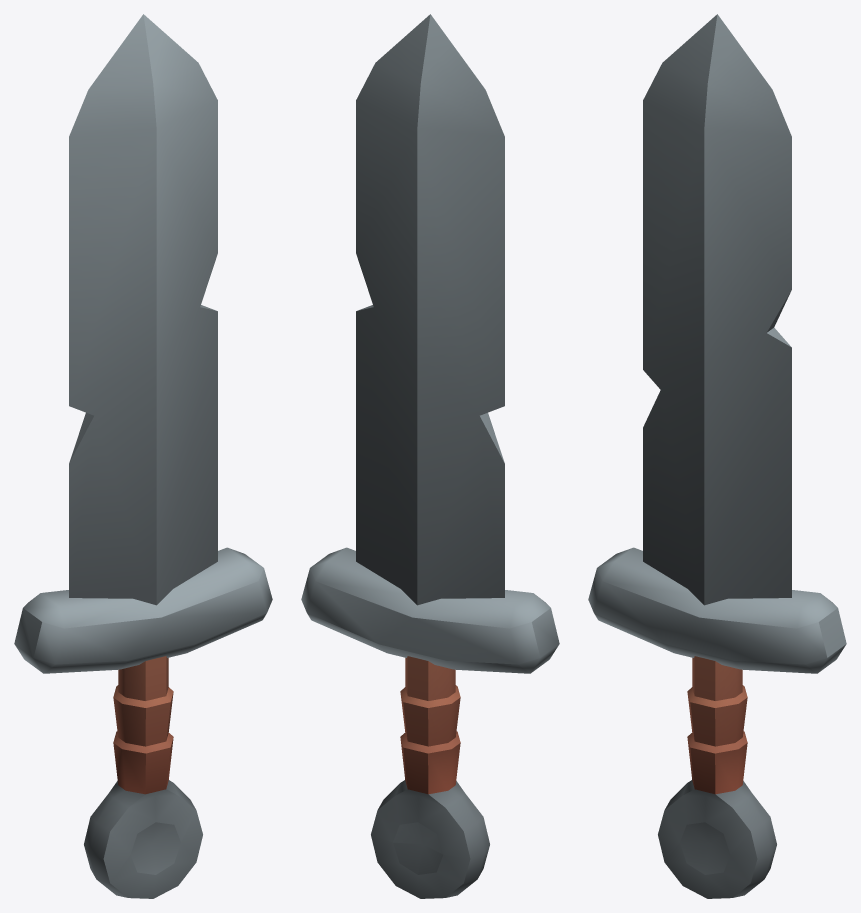
Rendered from kaykit-sword.glb.
3 renders of one model, left to right at view 1: azimuth 30°, elevation 25°; view 2: azimuth 150°, elevation 25°; view 3: azimuth 330°, elevation 25°, orthographic.
Visible parts, largest first — view 1: sword_1handed; view 2: sword_1handed; view 3: sword_1handed.
Part boxes in pixels (<box>): sword_1handed: <box>14,14,272,898</box>; sword_1handed: <box>301,14,559,898</box>; sword_1handed: <box>588,14,846,898</box>.
Bounding box in the file's own units: 0.238 × 0.8392 × 0.0618.
Materials: 1 (1 with a texture image).
